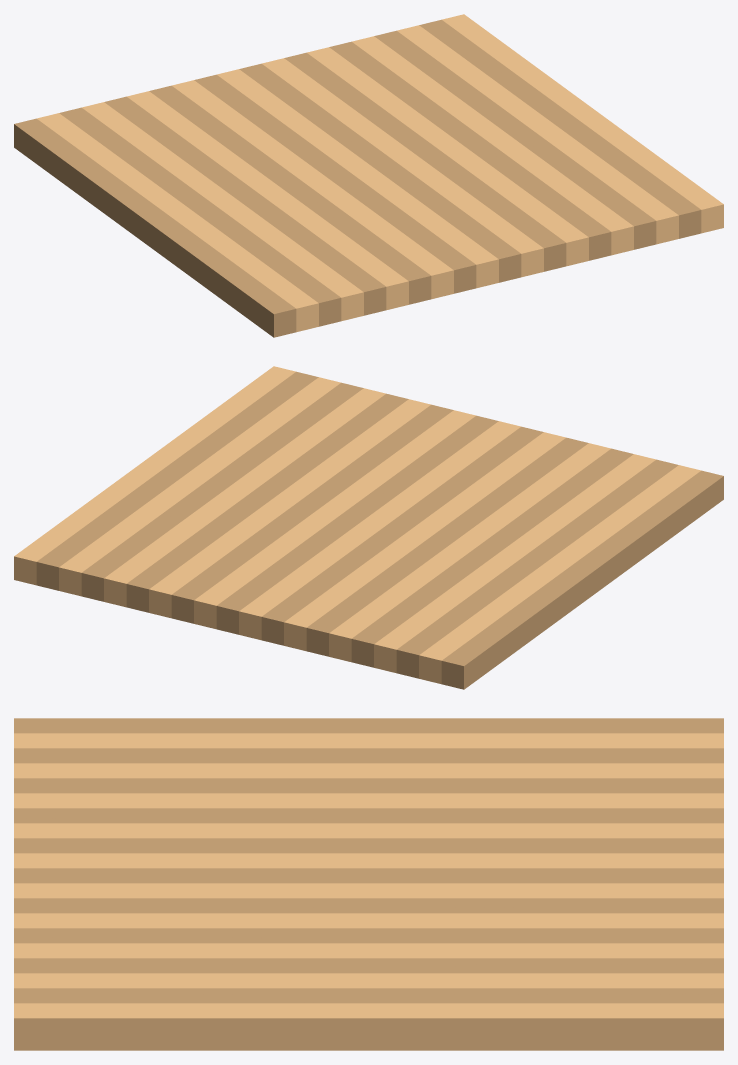
Rendered from BlocksAndFloors-0.obj.
3 renders of one model, top to bottom at view 1: azimuth 30°, elevation 25°; view 2: azimuth 150°, elevation 25°; view 3: azimuth 270°, elevation 25°, orthographic. The views are drawn at different scales.
Bounding box in the file's own units: 2 × 0.1 × 2.
Materials: 1 (1 with a texture image).
